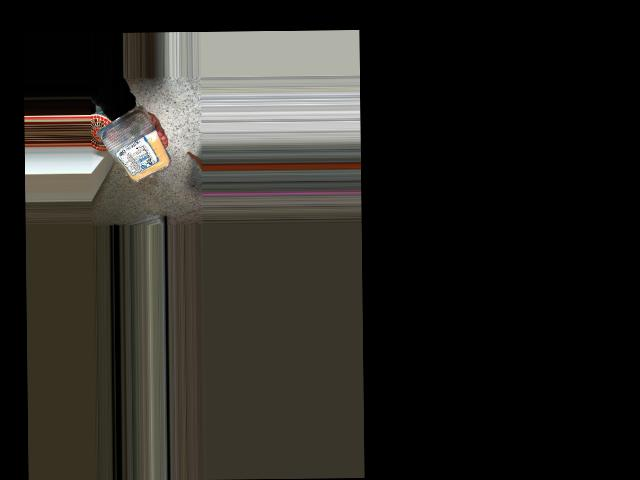cheese: (99, 110, 163, 187)
